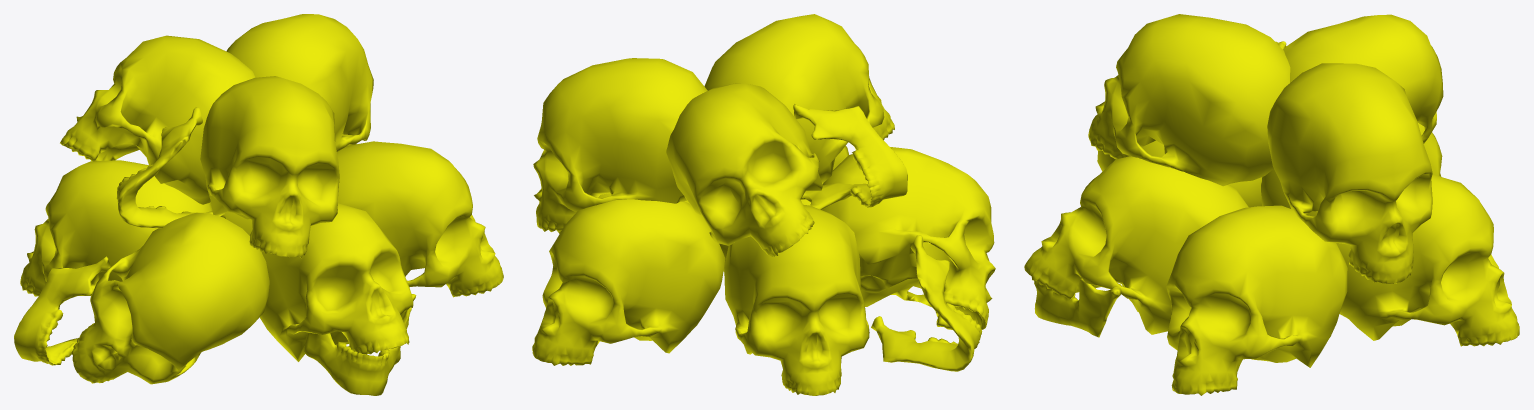
File: skeletons.fbx
3 renders of one model, left to right at view 1: azimuth 30°, elevation 25°; view 2: azimuth 150°, elevation 25°; view 3: azimuth 270°, elevation 25°, orthographic. The views are drawn at different scales.
Visible parts, largest first — view 1: huitugou_7008_07; view 2: huitugou_7008_07; view 3: huitugou_7008_07.
Part boxes in pixels (x1,y1,x2,y2): huitugou_7008_07: [14, 14, 503, 395]; huitugou_7008_07: [532, 14, 995, 395]; huitugou_7008_07: [1024, 14, 1519, 395].
Bounding box in the file's own units: 2.39 × 1.38 × 2.14.
